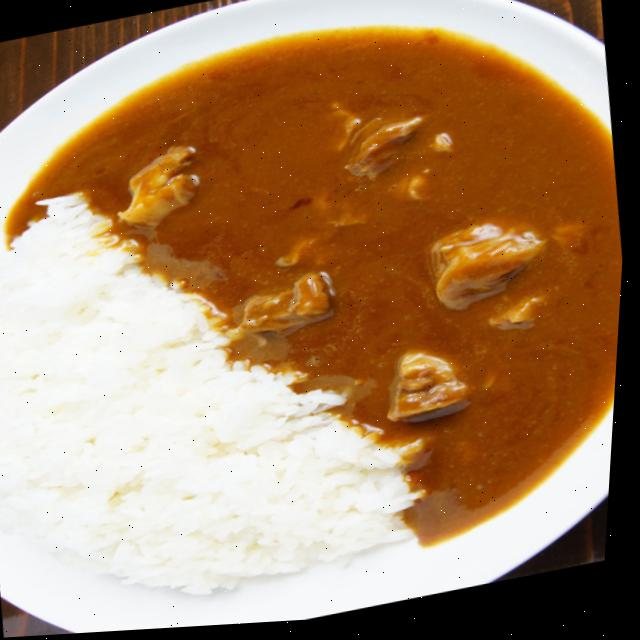Wet: (0, 0, 640, 636)
